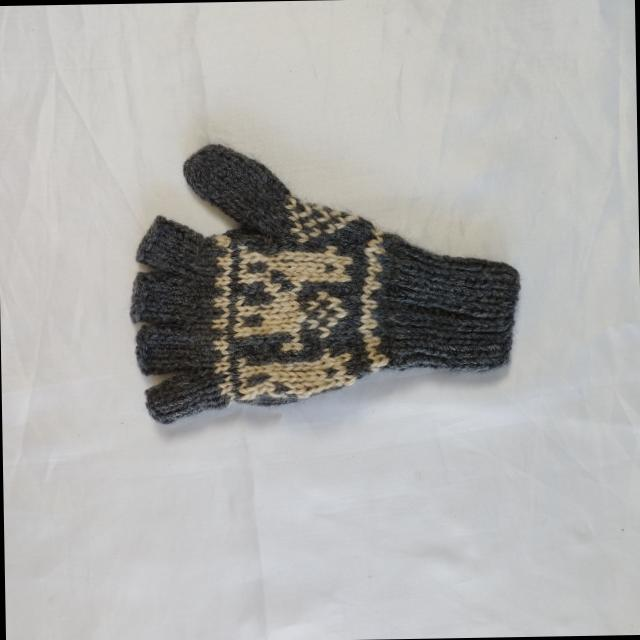Guante: (126, 136, 523, 426)
